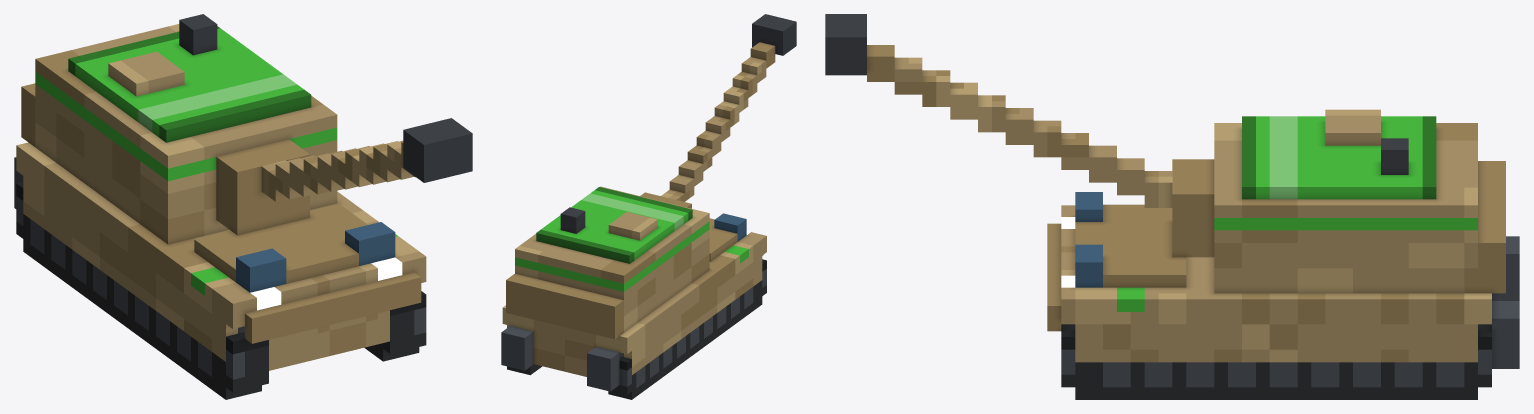
Rendered from cm_artillery_3.glb.
3 renders of one model, left to right at view 1: azimuth 30°, elevation 25°; view 2: azimuth 150°, elevation 25°; view 3: azimuth 270°, elevation 25°, orthographic. The views are drawn at different scales.
Visible parts, largest first — view 1: cm_artillery_3_body; view 2: cm_artillery_3_body; view 3: cm_artillery_3_body.
Part boxes in pixels (left/top/right/bottom): cm_artillery_3_body: left=14, top=14, right=472, bottom=399; cm_artillery_3_body: left=501, top=14, right=796, bottom=399; cm_artillery_3_body: left=825, top=14, right=1519, bottom=399.
Size of the model in its own units: 1 by 1.62 by 3.12.
Materials: 1 (1 with a texture image).
